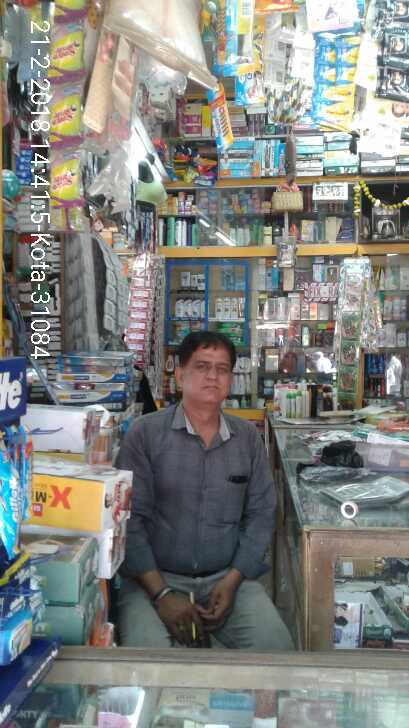gillete: (219, 1, 256, 71), (1, 439, 18, 555), (22, 429, 40, 523), (216, 96, 233, 150), (240, 77, 263, 106)
venus: (233, 267, 246, 292), (222, 269, 233, 292)
